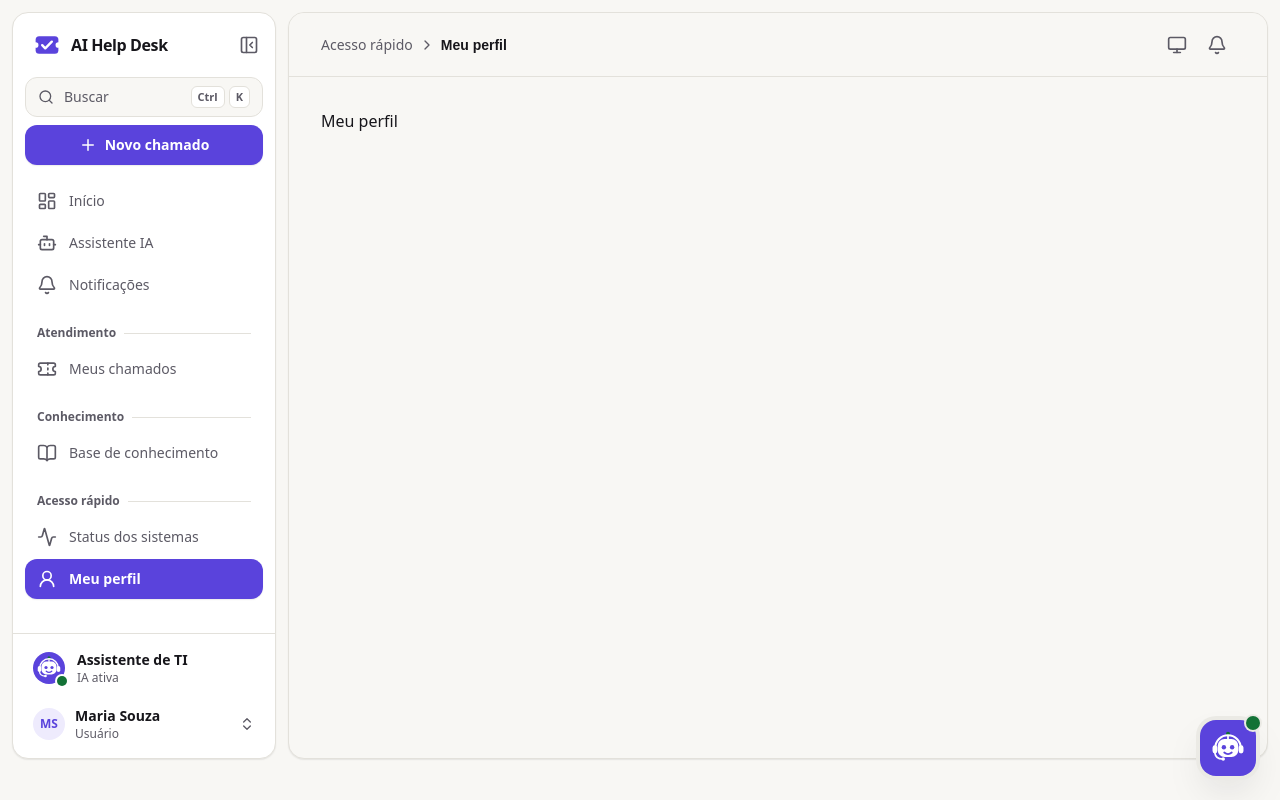
AppLayout › recolhe o menu lateral e lembra a escolha
Check: the heading "Meu perfil" is shown, box [321,110,398,132]
Click the button named "Recolher menu lateral" at (249, 45), box [231,27,267,63]
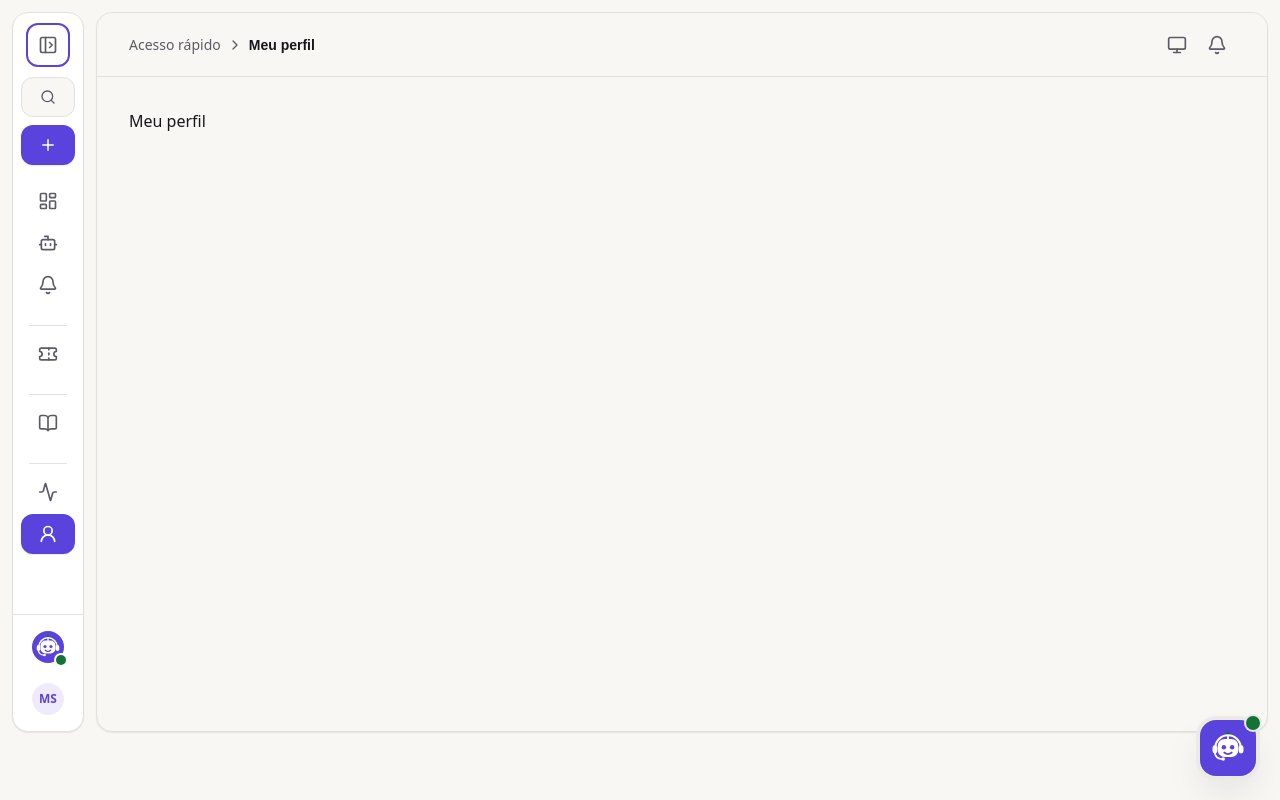
Check: the link named "Meu perfil" is shown, box [21,514,75,554]
Check: the button named "Expandir menu lateral" is collapsed, box [30,27,66,63]
